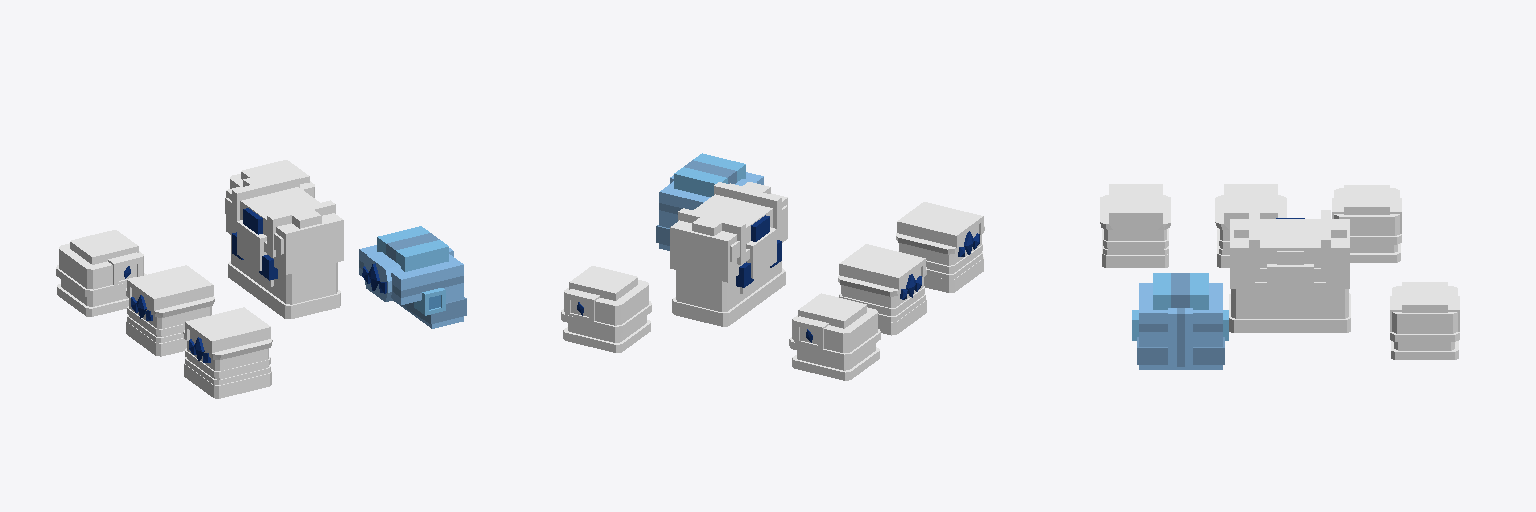
The picture shows the model from 3 angles: view 1: azimuth 30°, elevation 25°; view 2: azimuth 150°, elevation 25°; view 3: azimuth 270°, elevation 25°; orthographic projection.
Visible parts, largest first — view 1: Handle4, Handle3, Handle6, Handle2, Handle5, Handle1, Gem4; view 2: Handle4, Handle2, Handle1, Handle6, Handle5, Handle3, Gem4; view 3: Handle4, Handle3, Handle6, Handle1, Handle2, Handle5.
Part boxes in pixels (left/top/right/bottom): Handle4: left=225, top=174, right=343, bottom=318; Handle3: left=359, top=226, right=466, bottom=328; Handle6: left=183, top=307, right=272, bottom=398; Handle2: left=56, top=230, right=146, bottom=316; Handle5: left=126, top=265, right=214, bottom=356; Handle1: left=230, top=160, right=314, bottom=197; Gem4: left=232, top=208, right=277, bottom=280; Handle4: left=670, top=182, right=787, bottom=326; Handle2: left=789, top=293, right=880, bottom=380; Handle1: left=561, top=266, right=651, bottom=352; Handle6: left=896, top=202, right=984, bottom=292; Handle5: left=838, top=244, right=926, bottom=335; Handle3: left=656, top=153, right=763, bottom=250; Gem4: left=736, top=215, right=781, bottom=287; Handle4: left=1229, top=210, right=1350, bottom=332; Handle3: left=1132, top=273, right=1228, bottom=369; Handle6: left=1100, top=184, right=1170, bottom=267; Handle1: left=1390, top=282, right=1459, bottom=359; Handle2: left=1332, top=185, right=1401, bottom=262; Handle5: left=1215, top=184, right=1286, bottom=267.
Size of the model in its own units: 5.68 by 1.8 by 6.24.
Materials: 6 (1 with a texture image).